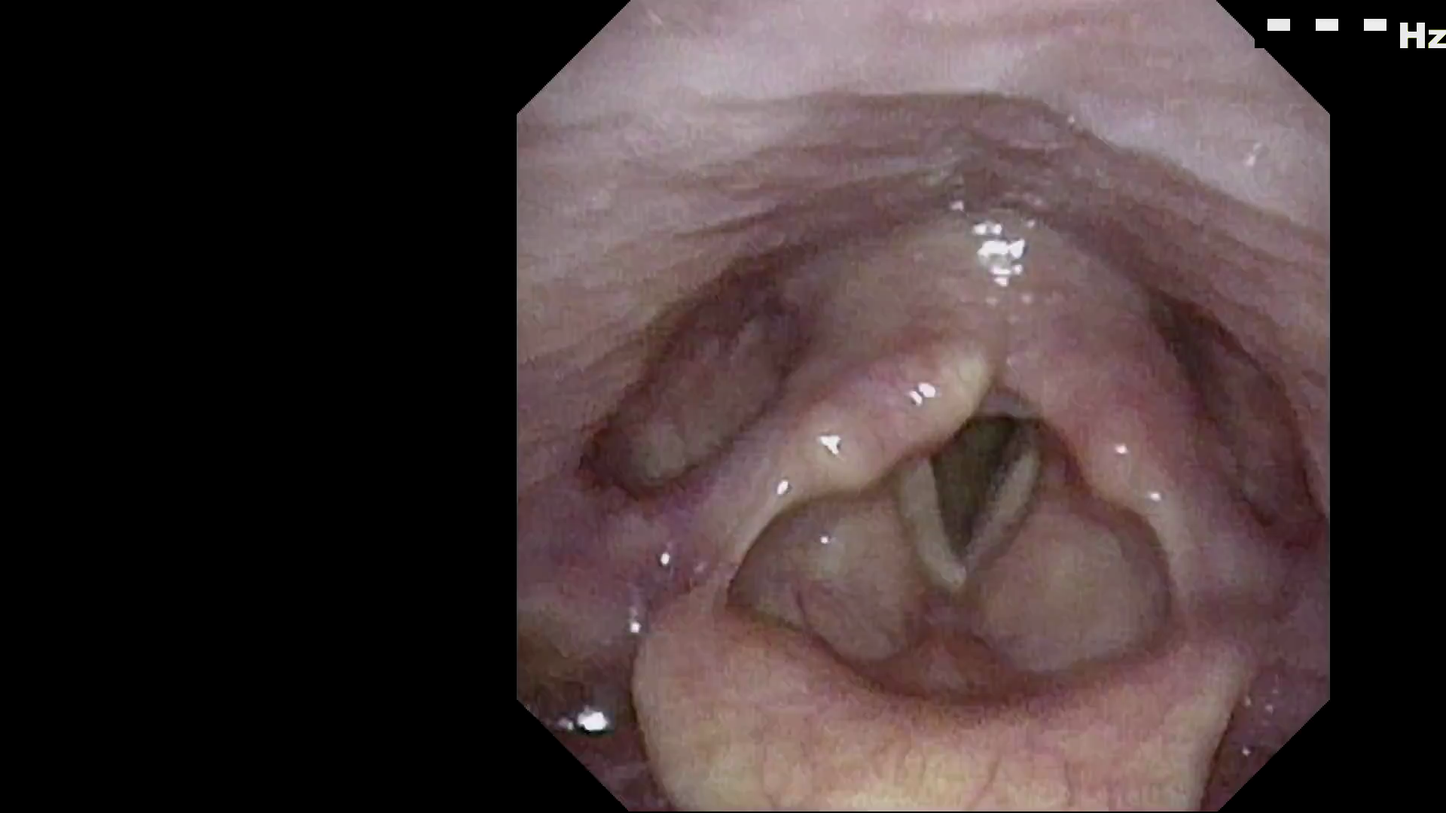epiglottis: (600, 524, 1239, 767)
trachea: (877, 379, 1056, 604)
